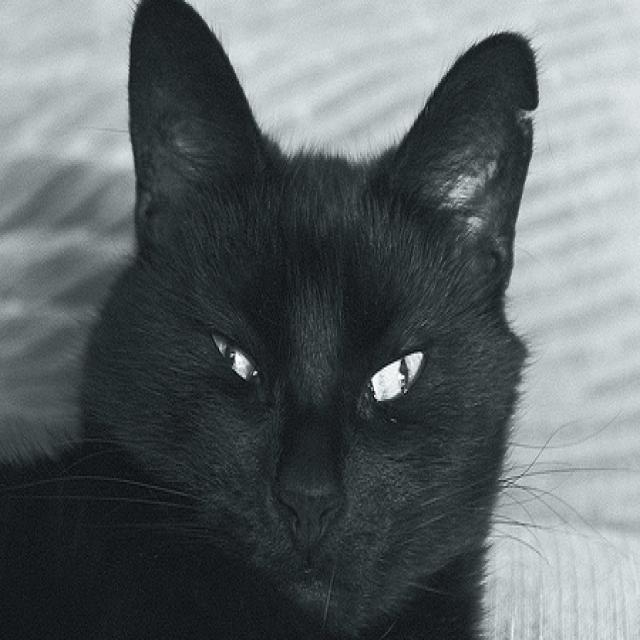Bombay: (0, 0, 540, 640)
